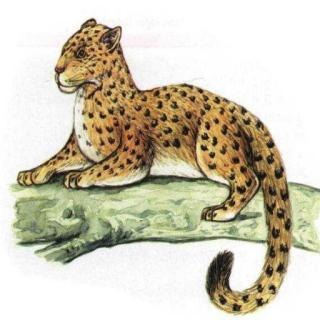Leopard: (44, 22, 314, 309)
